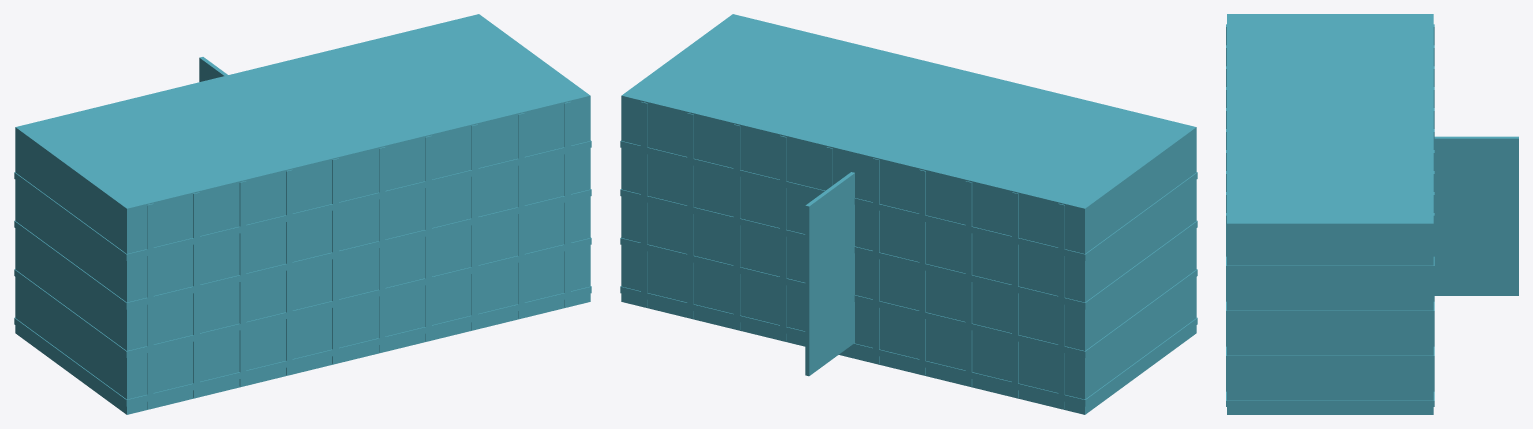
Rendered from container_blue.glb.
3 renders of one model, left to right at view 1: azimuth 30°, elevation 25°; view 2: azimuth 150°, elevation 25°; view 3: azimuth 270°, elevation 25°, orthographic. The views are drawn at different scales.
Size of the model in its own units: 6.02 by 2.55 by 3.54.
